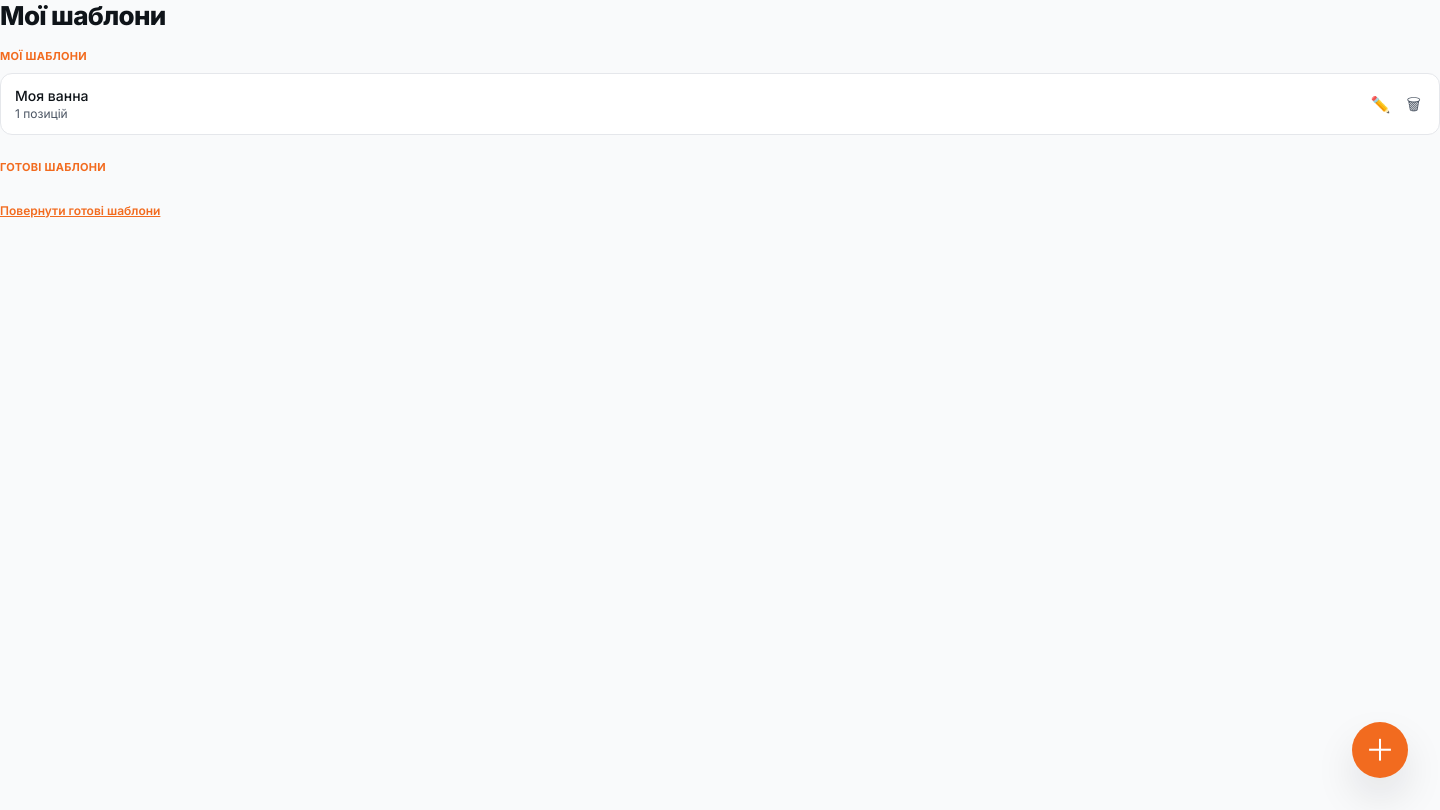
TemplatesPage — edit own template › row tap opens a read-only preview (no edit controls)
Click the text "Моя ванна".
click(52, 95)  # box [15,86,88,104]
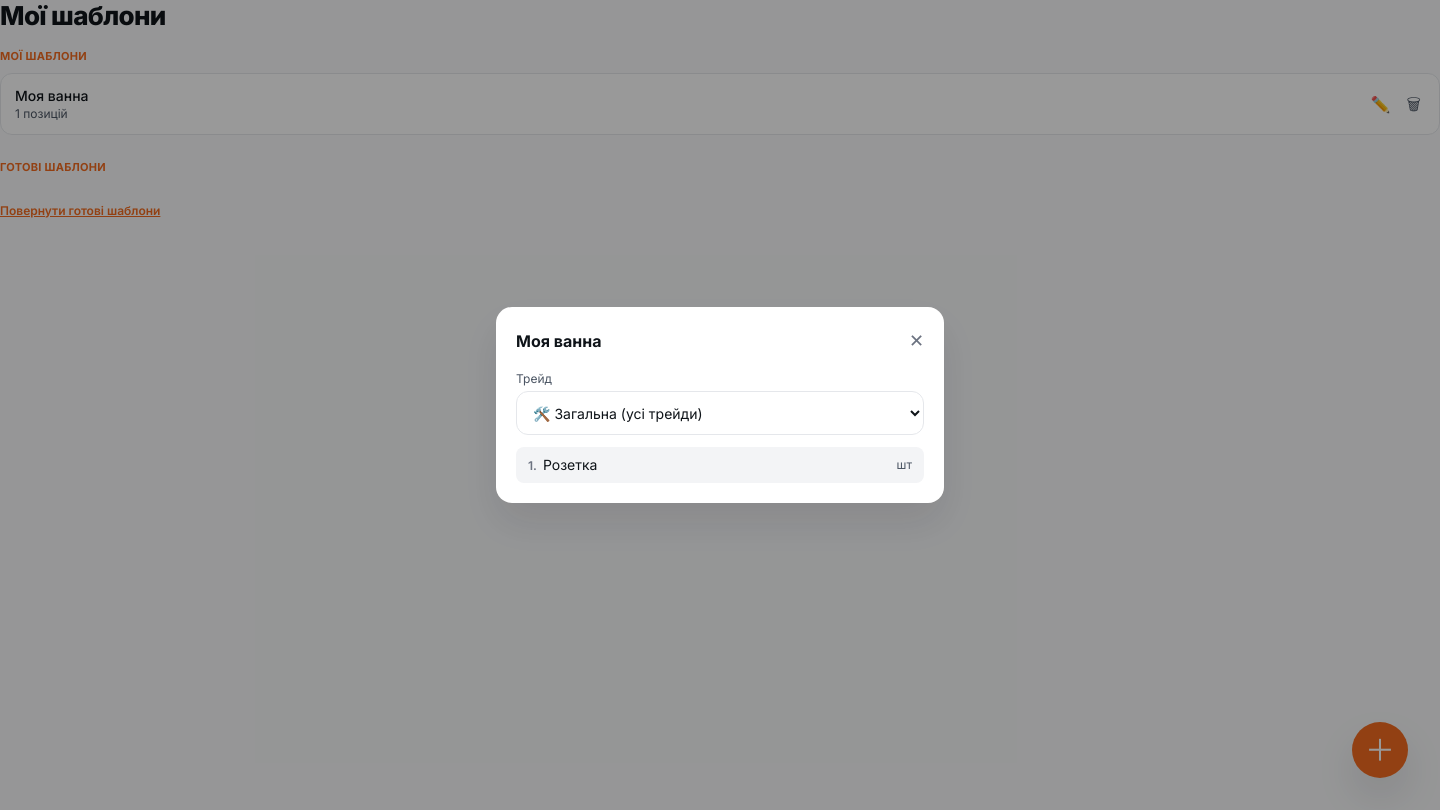
Now the text "Розетка" is shown, box [543,456,597,473]
